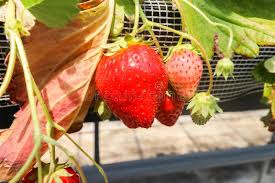ripe: (96, 40, 166, 128), (149, 89, 190, 128), (36, 161, 85, 182)
unripe: (158, 44, 203, 100), (187, 88, 219, 127), (215, 56, 232, 79)
